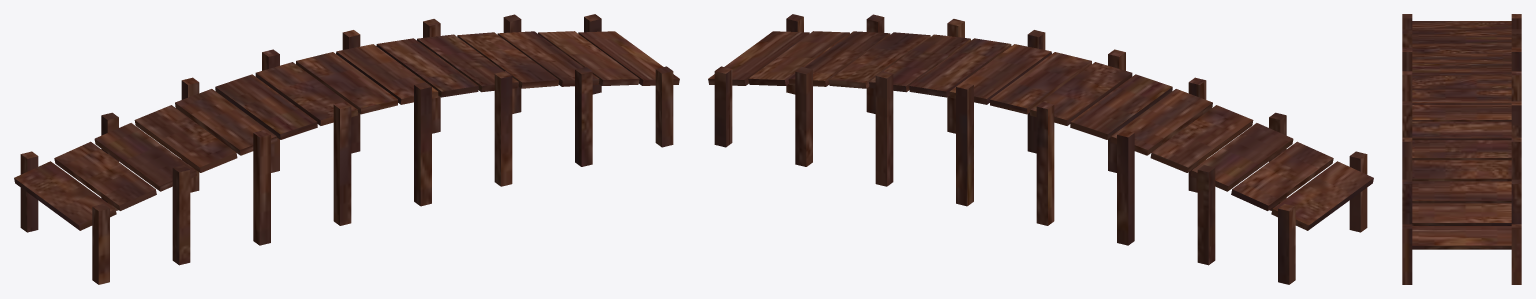
Rendered from 1_jembatan_01.fbx.
The picture shows the model from 3 angles, left to right: view 1: azimuth 30°, elevation 25°; view 2: azimuth 150°, elevation 25°; view 3: azimuth 270°, elevation 25°; orthographic projection. The views are drawn at different scales.
Parts seen in each view (by area): view 1: Jembatan_Nusantara_Base; view 2: Jembatan_Nusantara_Base; view 3: Jembatan_Nusantara_Base.
Part boxes in pixels (x1=…): Jembatan_Nusantara_Base: x1=14, y1=14, x2=679, y2=284; Jembatan_Nusantara_Base: x1=708, y1=14, x2=1373, y2=284; Jembatan_Nusantara_Base: x1=1402, y1=14, x2=1521, y2=284.
Size of the model in its own units: 2134 by 396 by 480.
